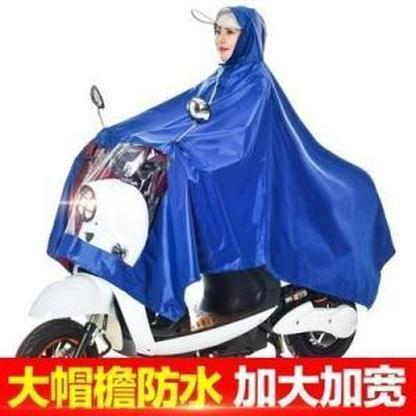target: (20, 4, 399, 357)
